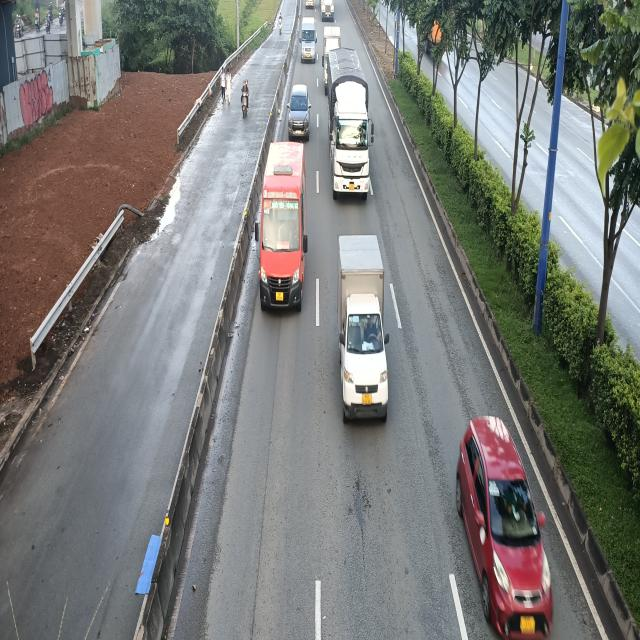car: (462, 419, 556, 640), (287, 84, 310, 140)
truck: (336, 233, 390, 422), (327, 50, 375, 203)
van: (254, 140, 309, 311), (300, 15, 317, 63)
